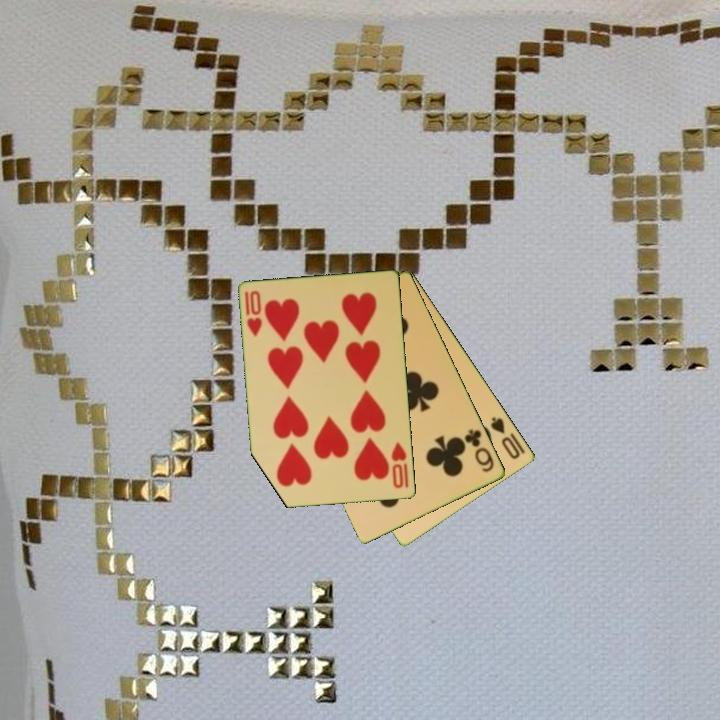10h: (241, 287, 265, 340), (388, 439, 412, 491)
10s: (487, 413, 528, 462)
6c: (461, 425, 497, 475)
